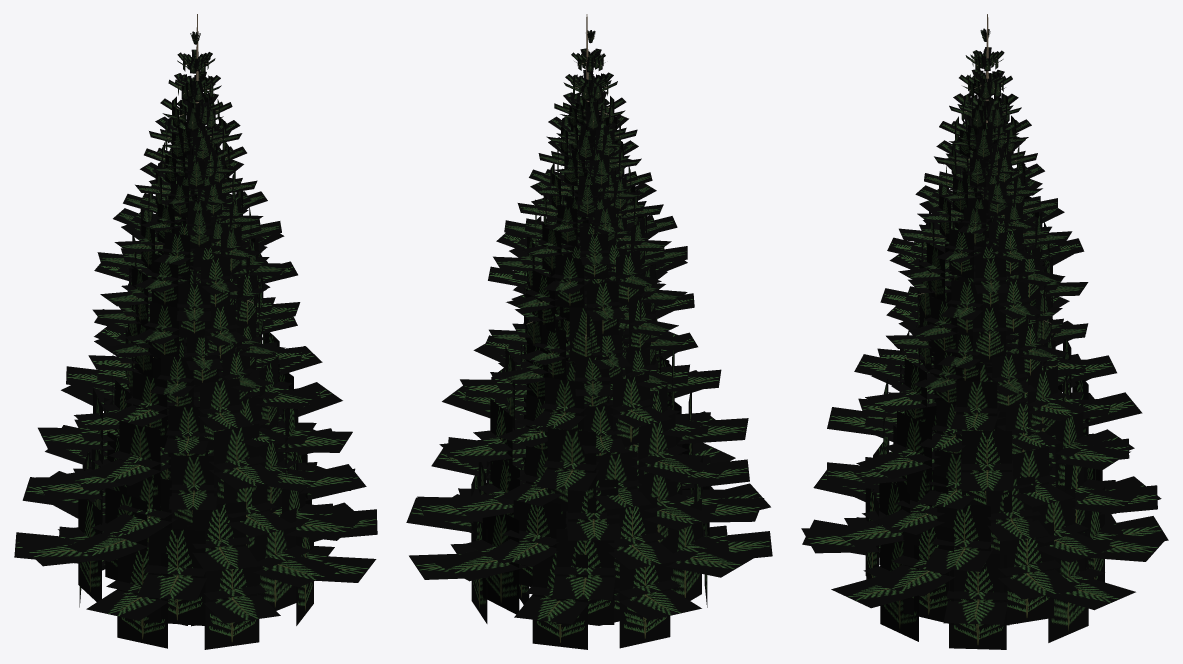
The model's file is Larch_0_LOD0.glb.
3 renders of one model, left to right at view 1: azimuth 30°, elevation 25°; view 2: azimuth 150°, elevation 25°; view 3: azimuth 270°, elevation 25°, orthographic.
Parts seen in each view (by area): view 1: Larch_0_LOD0; view 2: Larch_0_LOD0; view 3: Larch_0_LOD0.
Boxes of the visible parts, x1,y1,x2,y2 form: Larch_0_LOD0: [14, 14, 377, 649]; Larch_0_LOD0: [406, 14, 772, 649]; Larch_0_LOD0: [801, 14, 1168, 649].
Size of the model in its own units: 11.46 by 20.21 by 11.46.
2 materials, 1 textured.
